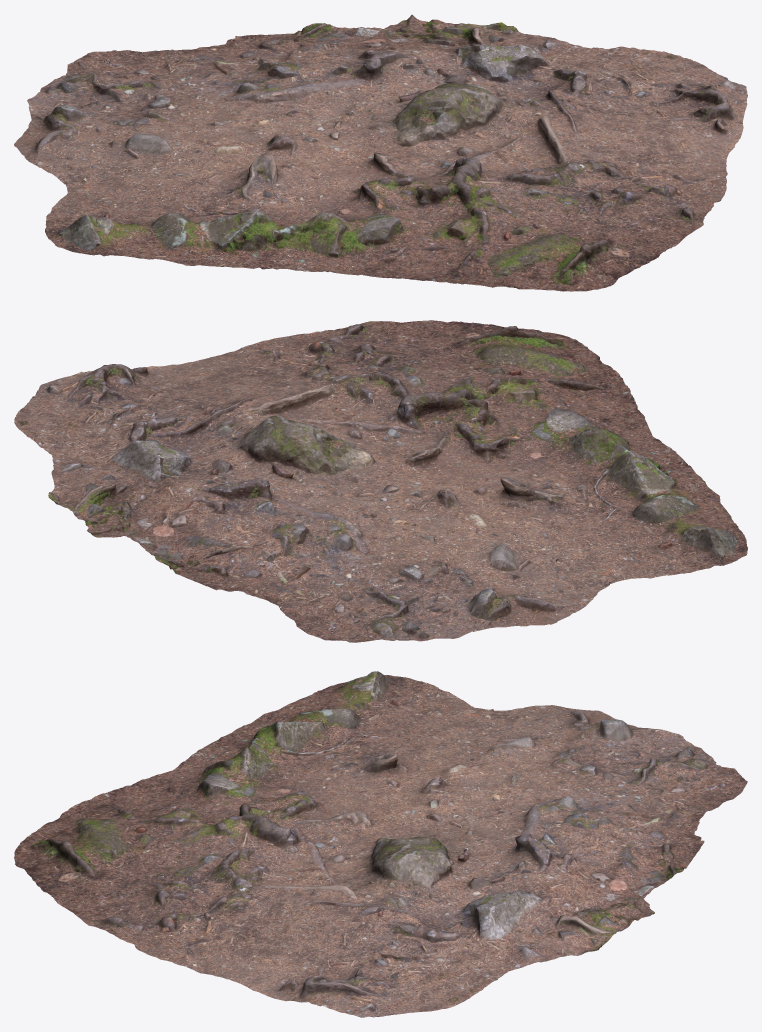
Rendered from tierra MODELO3D.fbx.
3 views of the same model, one above another, from view 1: azimuth 30°, elevation 25°; view 2: azimuth 150°, elevation 25°; view 3: azimuth 270°, elevation 25° (orthographic). The views are drawn at different scales.
Parts seen in each view (by area): view 1: Rocks and Roots on Forest Floor; view 2: Rocks and Roots on Forest Floor; view 3: Rocks and Roots on Forest Floor.
Part boxes in pixels (x1,y1,x2,y2): Rocks and Roots on Forest Floor: (14,14,747,291); Rocks and Roots on Forest Floor: (14,320,747,642); Rocks and Roots on Forest Floor: (14,671,747,1017).
Bounding box in the file's own units: 261 × 17.99 × 240.
Materials: 1 (1 with a texture image).
